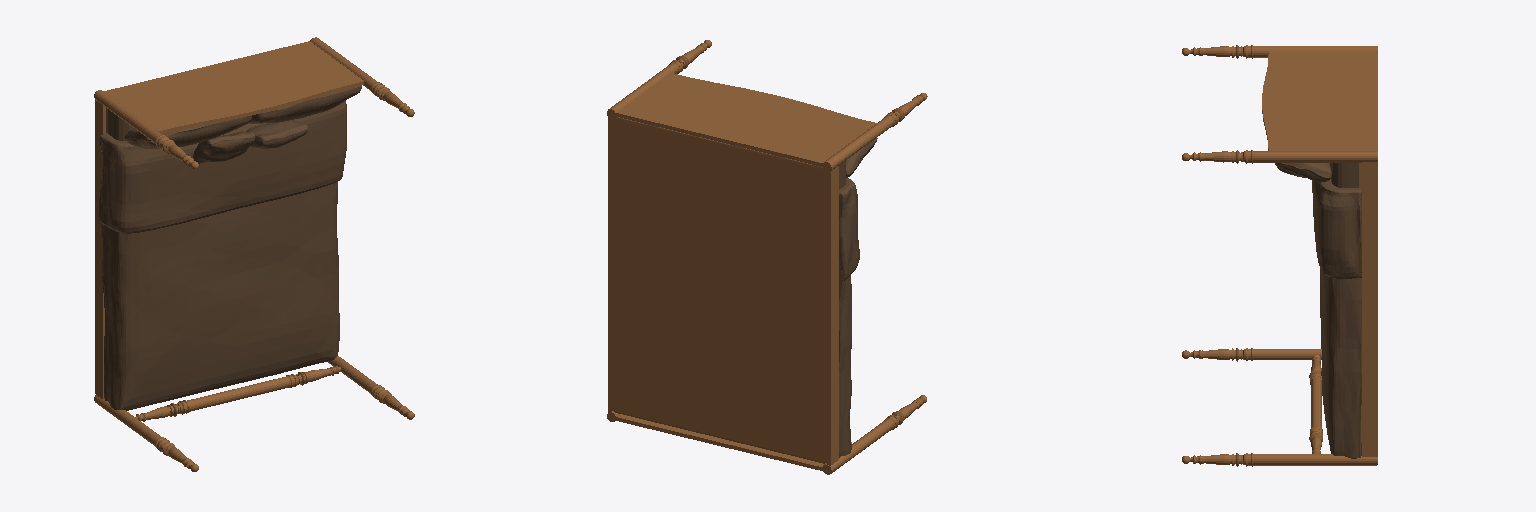
File: 14317_Queen_Size_Bed_with_Mocha_Sheets-Honey_v1_l1.obj
3 renders of one model, left to right at view 1: azimuth 30°, elevation 25°; view 2: azimuth 150°, elevation 25°; view 3: azimuth 270°, elevation 25°, orthographic.
Parts seen in each view (by area): view 1: Box6254, Box6258, Box6250, Cylinder2941, Box6251, Box6259, Cylinder2940, Box6252, Cylinder2939, Box6253, Cylinder2943, Cylinder2942; view 2: Box6256, Box6258, Box6254, Box6250, Box6255, Cylinder2940, Cylinder2939, Box6260, Cylinder2943; view 3: Box6254, Box6258, Box6260, Cylinder2943, Cylinder2942, Cylinder2940, Cylinder2939, Cylinder2941, Box6259, Box6257.
Boxes of the visible parts, x1,y1,x2,y2 form: Box6254: [99, 101, 346, 410]; Box6258: [104, 41, 363, 133]; Box6250: [95, 100, 105, 399]; Cylinder2941: [135, 366, 340, 421]; Box6251: [125, 116, 251, 148]; Box6259: [248, 86, 361, 123]; Cylinder2940: [94, 90, 193, 166]; Box6252: [193, 131, 254, 163]; Cylinder2939: [94, 395, 194, 468]; Box6253: [246, 120, 307, 148]; Cylinder2943: [310, 37, 409, 113]; Cylinder2942: [328, 356, 409, 416]; Box6256: [612, 117, 826, 463]; Box6258: [616, 73, 876, 166]; Box6254: [839, 178, 859, 457]; Box6250: [827, 166, 838, 465]; Box6255: [616, 414, 825, 470]; Cylinder2940: [823, 95, 922, 171]; Cylinder2939: [823, 398, 922, 474]; Box6260: [608, 117, 611, 411]; Cylinder2943: [607, 43, 707, 118]; Box6254: [1312, 179, 1362, 458]; Box6258: [1262, 51, 1377, 150]; Box6260: [1362, 162, 1377, 456]; Cylinder2943: [1190, 150, 1377, 163]; Cylinder2942: [1190, 453, 1377, 466]; Cylinder2940: [1190, 45, 1377, 58]; Cylinder2939: [1190, 348, 1321, 361]; Cylinder2941: [1309, 355, 1322, 453]; Box6259: [1275, 163, 1331, 181]; Box6257: [1330, 163, 1358, 187].
Bounding box in the file's own units: 167 × 214 × 121.